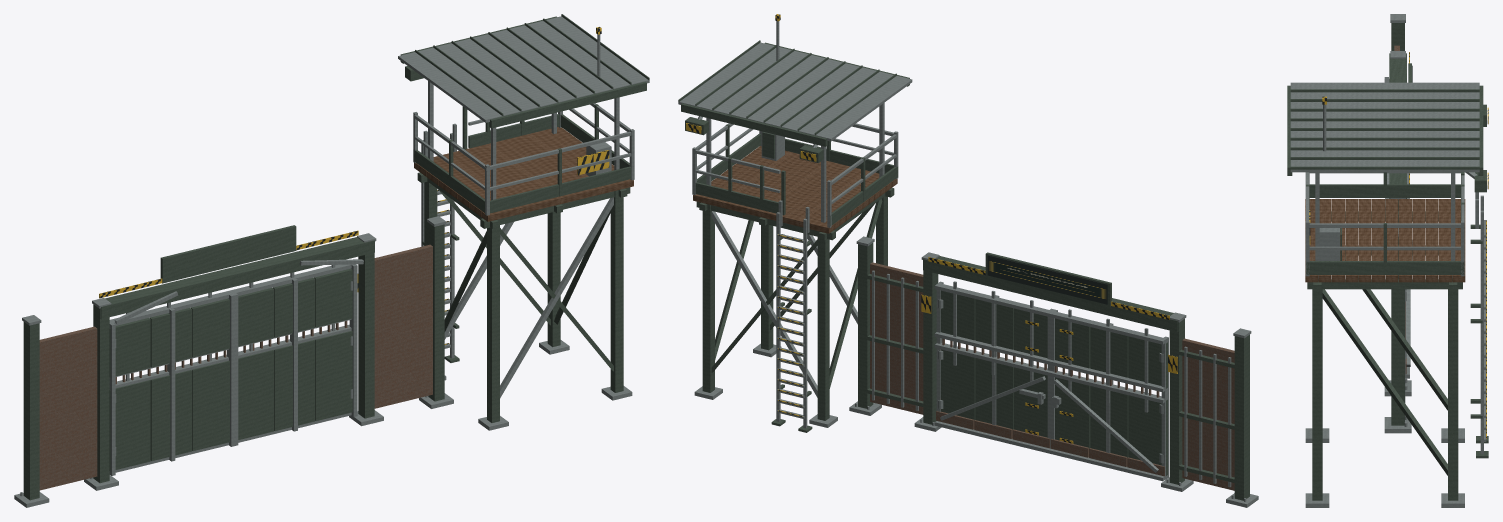
Rendered from PROJECT_Z_Blackline_Fortified_Gate_Watchtower_KIT.glb.
The picture shows the model from 3 angles, left to right: view 1: azimuth 30°, elevation 25°; view 2: azimuth 150°, elevation 25°; view 3: azimuth 270°, elevation 25°; orthographic projection. The views are drawn at different scales.
Visible parts, largest first — view 1: SM_Wing_East_Sheet_Panel, SM_Wing_West_Sheet_Panel, SM_Gate_Overhead_Lintel, SM_Gate_Shelter_Signboard_Back, SM_LeftGate_LowerSheet_2, SM_LeftGate_LowerSheet_1, SM_LeftGate_LowerSheet_0, SM_RightGate_LowerSheet_0, SM_RightGate_LowerSheet_2, SM_RightGate_LowerSheet_1, SM_Gate_WingWest_SquarePost, SM_Gate_Right_SquarePost (+43 smaller); view 2: SM_Wing_West_Sheet_Panel, SM_Wing_East_Sheet_Panel, SM_Gate_Overhead_Lintel, SM_Gate_WingWest_SquarePost, SM_Gate_Shelter_Sign_Decal, SM_Tower_West_Front_SupportLeg, SM_Tower_East_Front_SupportLeg, SM_LeftGate_LowerSheet_0, SM_RightGate_LowerSheet_0, SM_RightGate_LowerSheet_1, SM_Gate_Left_SquarePost, SM_Gate_WingEast_SquarePost (+50 smaller); view 3: SM_Tower_East_Rear_SupportLeg, SM_Tower_East_Front_SupportLeg, SM_Tower_Toeboard_East, SM_Tower_Canopy_MetalPanel_08, SM_Tower_Toeboard_West, SM_Gate_WingEast_SquarePost, SM_Z_SideDiagonal_+1.50, SM_Tower_Canopy_MetalPanel_00, SM_Tower_Canopy_MetalPanel_03, SM_Tower_Canopy_MetalPanel_06, SM_Tower_Canopy_MetalPanel_07, SM_Tower_Canopy_MetalPanel_01 (+43 smaller).
Part boxes in pixels (left/top/right/bottom): SM_Wing_East_Sheet_Panel: left=374, top=244, right=432, bottom=408; SM_Wing_West_Sheet_Panel: left=39, top=326, right=97, bottom=490; SM_Gate_Overhead_Lintel: left=100, top=237, right=374, bottom=319; SM_Gate_Shelter_Signboard_Back: left=160, top=225, right=296, bottom=283; SM_LeftGate_LowerSheet_2: left=192, top=360, right=229, bottom=450; SM_LeftGate_LowerSheet_1: left=150, top=370, right=191, bottom=461; SM_LeftGate_LowerSheet_0: left=109, top=380, right=150, bottom=471; SM_RightGate_LowerSheet_0: left=315, top=331, right=352, bottom=420; SM_RightGate_LowerSheet_2: left=238, top=350, right=274, bottom=439; SM_RightGate_LowerSheet_1: left=274, top=340, right=315, bottom=430; SM_Gate_WingWest_SquarePost: left=23, top=322, right=39, bottom=500; SM_Gate_Right_SquarePost: left=358, top=252, right=374, bottom=418; SM_Wing_West_Sheet_Panel: left=1182, top=338, right=1234, bottom=490; SM_Wing_East_Sheet_Panel: left=870, top=262, right=923, bottom=414; SM_Gate_Overhead_Lintel: left=923, top=256, right=1178, bottom=332; SM_Gate_WingWest_SquarePost: left=1234, top=334, right=1249, bottom=500; SM_Gate_Shelter_Sign_Decal: left=987, top=255, right=1107, bottom=304; SM_Tower_West_Front_SupportLeg: left=817, top=231, right=829, bottom=420; SM_Tower_East_Front_SupportLeg: left=702, top=204, right=714, bottom=392; SM_LeftGate_LowerSheet_0: left=1128, top=395, right=1167, bottom=475; SM_RightGate_LowerSheet_0: left=940, top=349, right=975, bottom=420; SM_RightGate_LowerSheet_1: left=975, top=358, right=1013, bottom=429; SM_Gate_Left_SquarePost: left=1169, top=319, right=1184, bottom=484; SM_Gate_WingEast_SquarePost: left=858, top=243, right=873, bottom=408; SM_Tower_East_Rear_SupportLeg: left=1312, top=279, right=1322, bottom=500; SM_Tower_East_Front_SupportLeg: left=1448, top=279, right=1458, bottom=500; SM_Tower_Toeboard_East: left=1306, top=261, right=1464, bottom=274; SM_Tower_Canopy_MetalPanel_08: left=1290, top=160, right=1479, bottom=172; SM_Tower_Toeboard_West: left=1309, top=184, right=1460, bottom=197; SM_Gate_WingEast_SquarePost: left=1391, top=236, right=1404, bottom=425; SM_Z_SideDiagonal_+1.50: left=1322, top=289, right=1447, bottom=475; SM_Tower_Canopy_MetalPanel_00: left=1290, top=82, right=1479, bottom=89; SM_Tower_Canopy_MetalPanel_03: left=1290, top=111, right=1479, bottom=118; SM_Tower_Canopy_MetalPanel_06: left=1290, top=140, right=1479, bottom=147; SM_Tower_Canopy_MetalPanel_07: left=1290, top=150, right=1479, bottom=156; SM_Tower_Canopy_MetalPanel_01: left=1290, top=92, right=1479, bottom=98.
Size of the model in its own units: 14.09 by 8.54 by 3.93.
6 materials, 6 textured.
